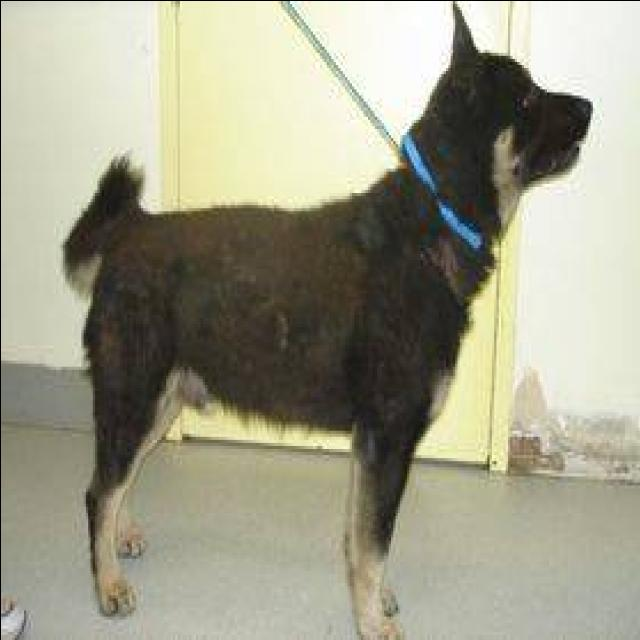dog: (37, 0, 604, 640)
